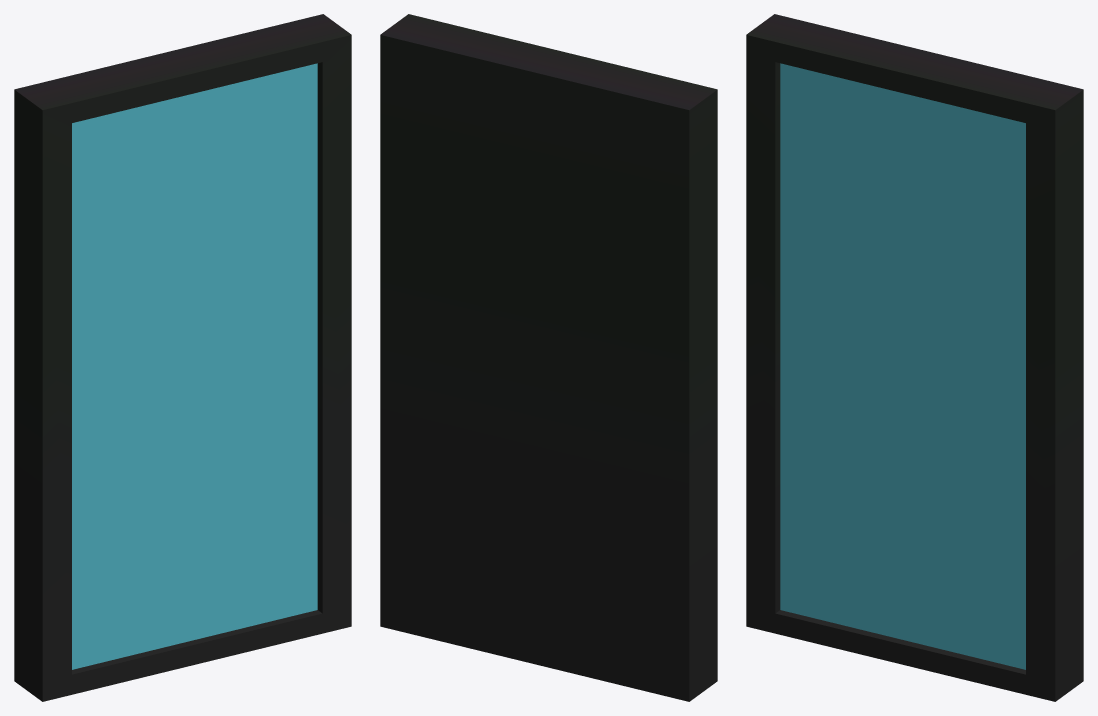
The model's file is Door.fbx.
3 renders of one model, left to right at view 1: azimuth 30°, elevation 25°; view 2: azimuth 150°, elevation 25°; view 3: azimuth 330°, elevation 25°, orthographic.
Parts seen in each view (by area): view 1: Cube; view 2: Cube; view 3: Cube.
Boxes of the visible parts, left/top/right/bottom form: Cube: left=14, top=14, right=351, bottom=701; Cube: left=380, top=14, right=717, bottom=701; Cube: left=746, top=14, right=1083, bottom=701.
Bounding box in the file's own units: 243 × 444 × 38.64.
